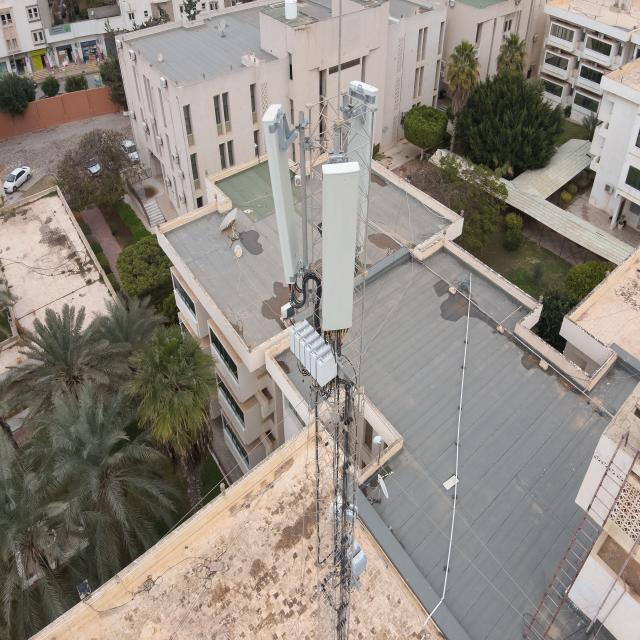antenna: (334, 79, 382, 312), (316, 156, 363, 334), (260, 98, 304, 288)
lighnig-rad: (334, 0, 344, 120)
microware-dish: (325, 488, 362, 534)
power-box: (334, 532, 370, 584)
radio-unit: (286, 313, 342, 392)
